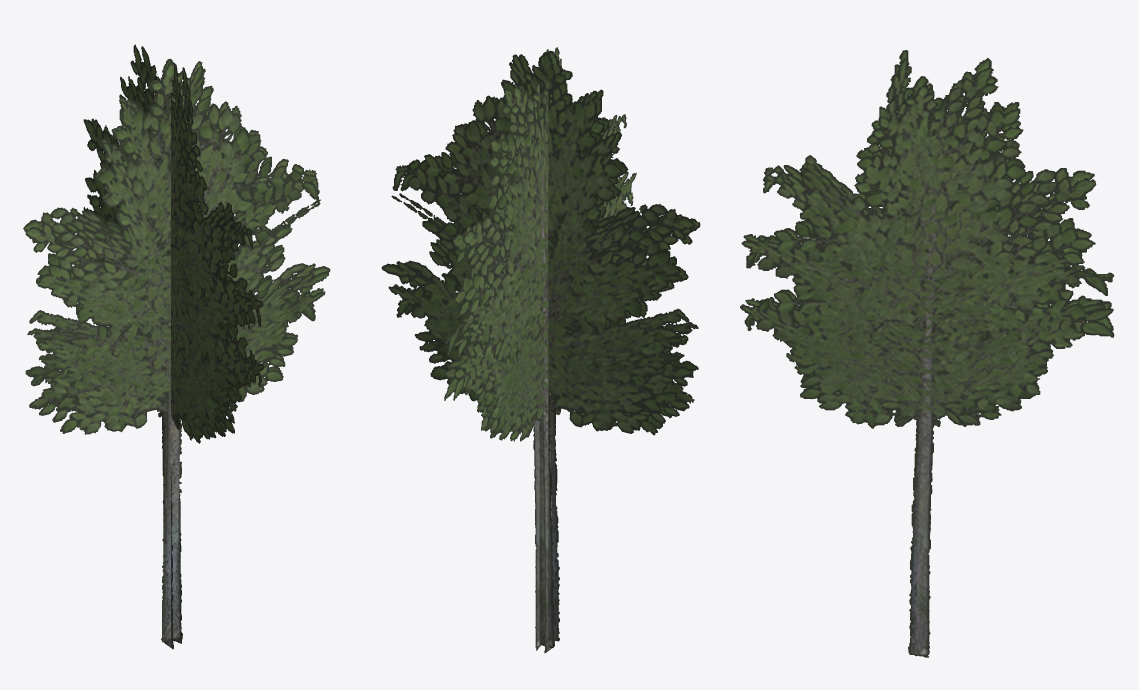
Rendered from Billboard_Aspen_03.fbx.
The picture shows the model from 3 angles, left to right: view 1: azimuth 30°, elevation 25°; view 2: azimuth 150°, elevation 25°; view 3: azimuth 270°, elevation 25°; orthographic projection. The views are drawn at different scales.
Parts seen in each view (by area): view 1: Billboard_Aspen_03; view 2: Billboard_Aspen_03; view 3: Billboard_Aspen_03.
Boxes of the visible parts, x1,y1,x2,y2 form: Billboard_Aspen_03: (23, 44, 330, 649); Billboard_Aspen_03: (381, 47, 700, 653); Billboard_Aspen_03: (740, 50, 1114, 657).
Bounding box in the file's own units: 136 × 254 × 137.
